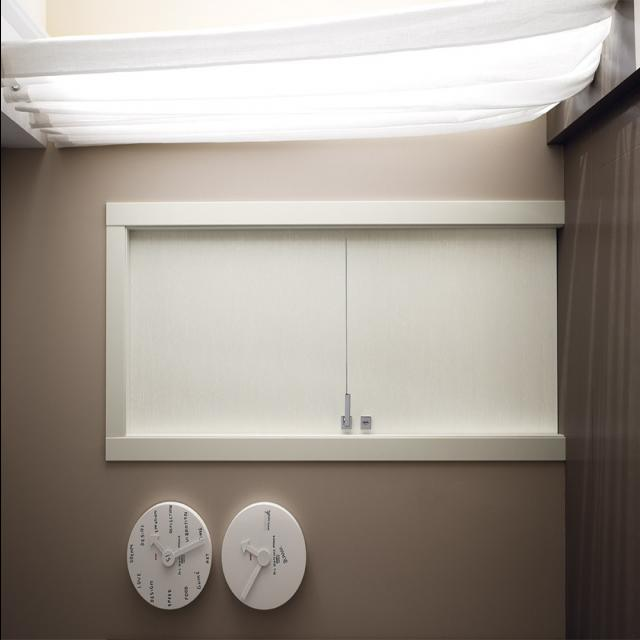close: (104, 202, 566, 456)
